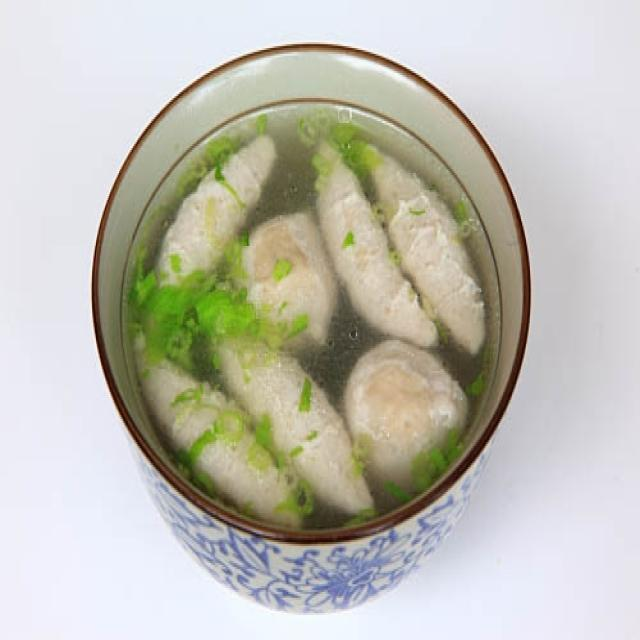熟制海鲜: (101, 50, 542, 569)
